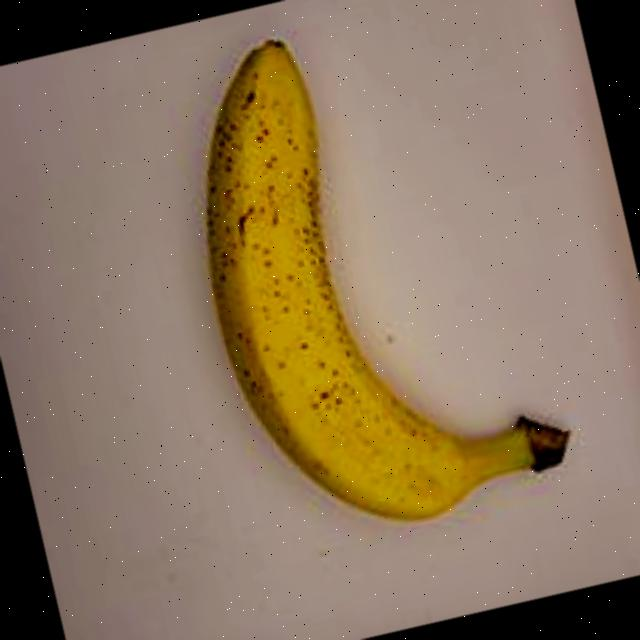Overripe: (112, 0, 601, 585)
